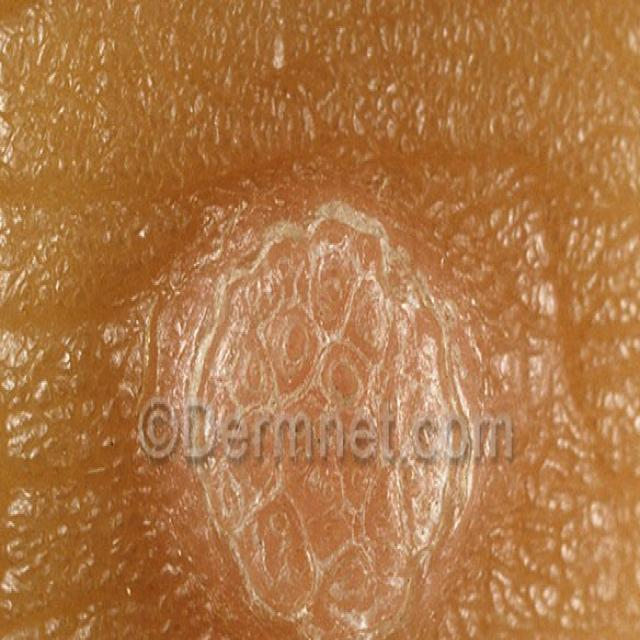Warts: (150, 124, 505, 640)
